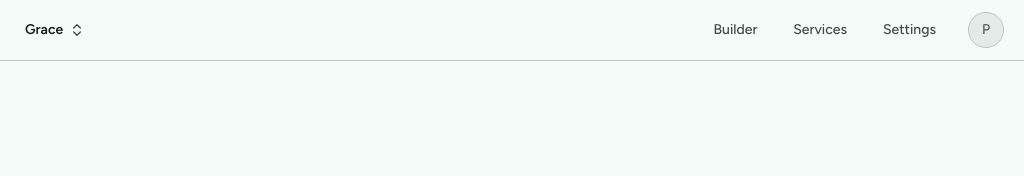
AppHeader › offers Join or create a church… below the list with one church, and it opens /welcome
Click the button with aria-label "Active church: Grace" at [55, 30], box [16,8,94,52]
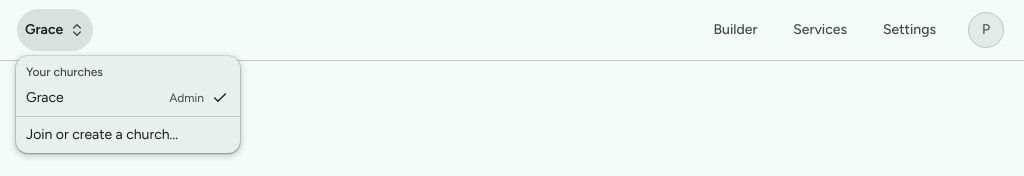
Click the menu item "Join or create a church…" at [102, 134], box [26,126,178,143]
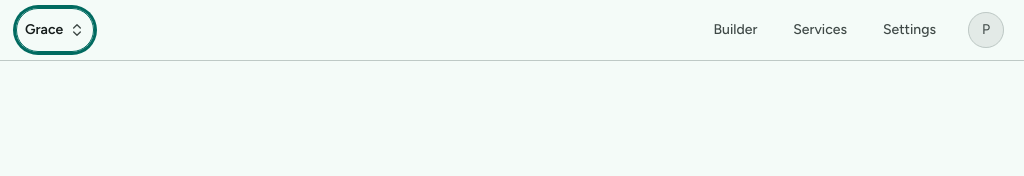
Expected: the menu is gone
